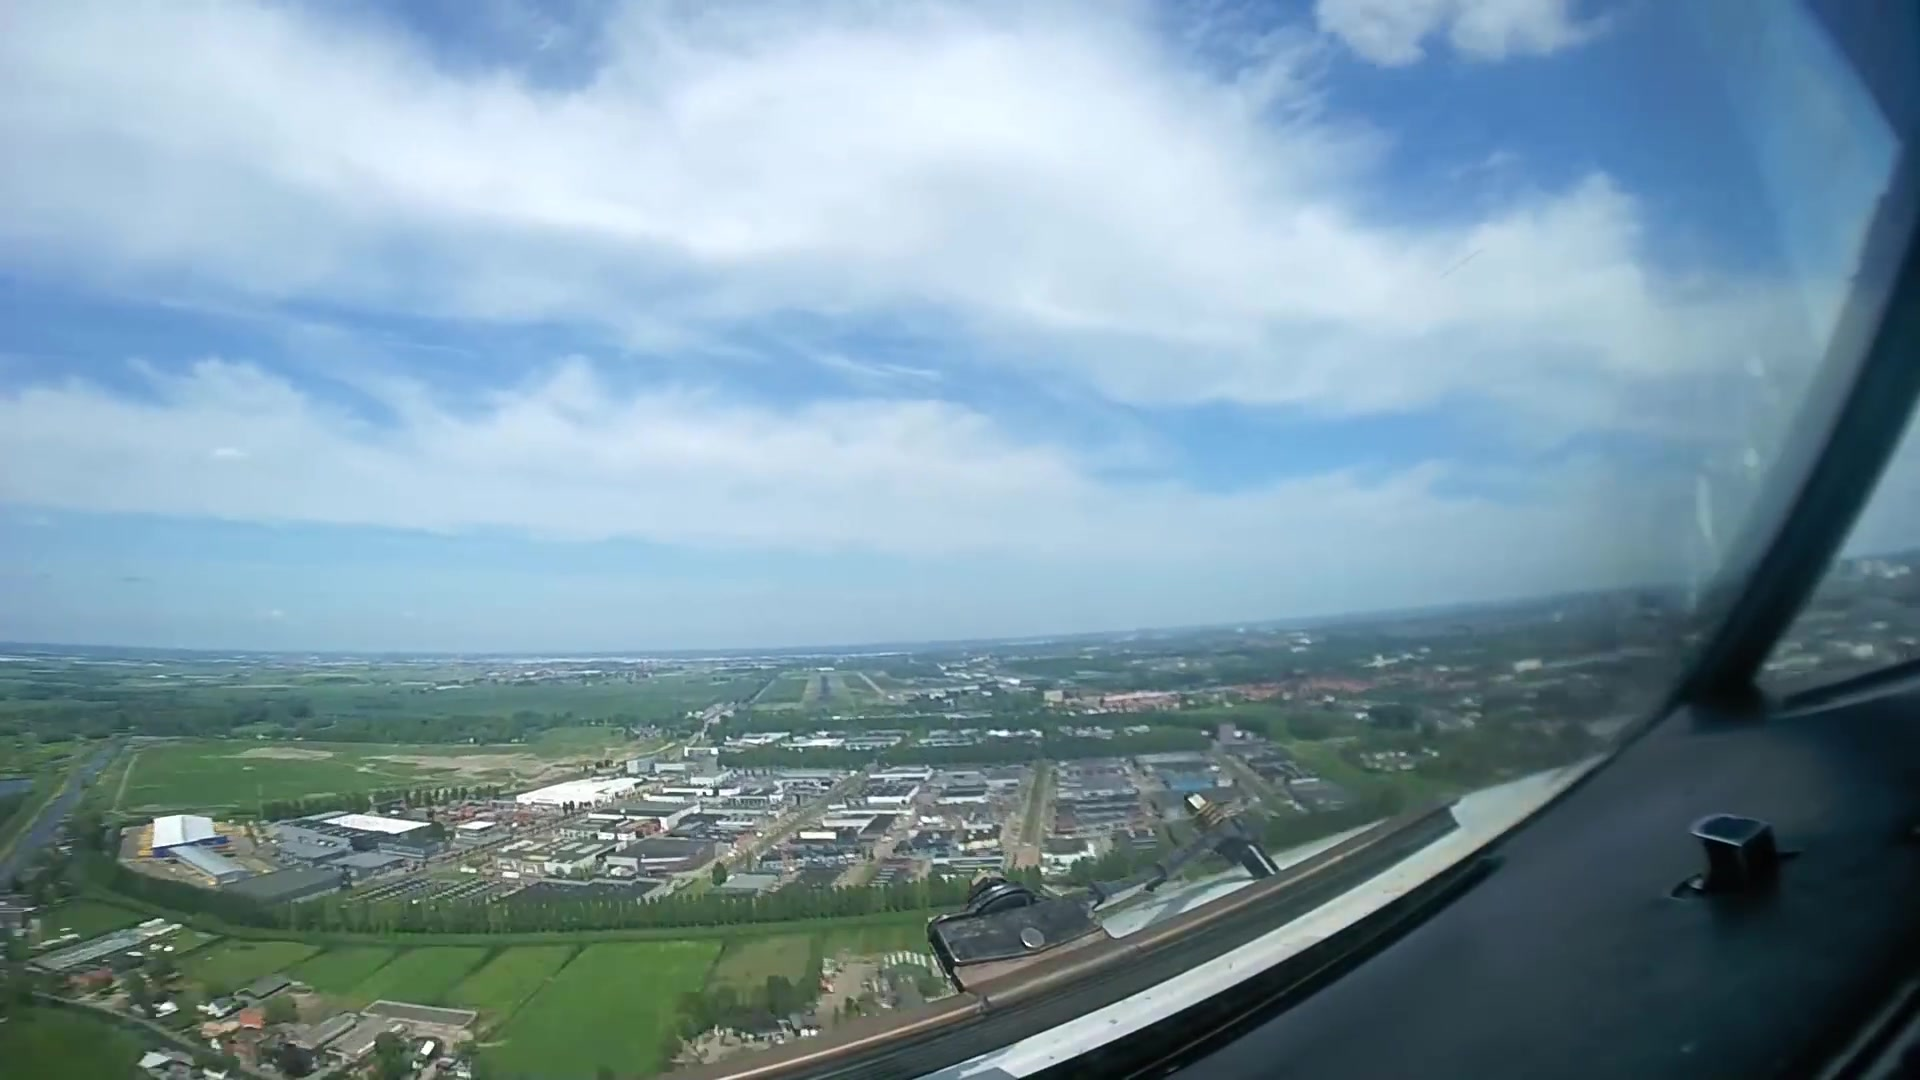runway: (814, 673, 836, 709)
